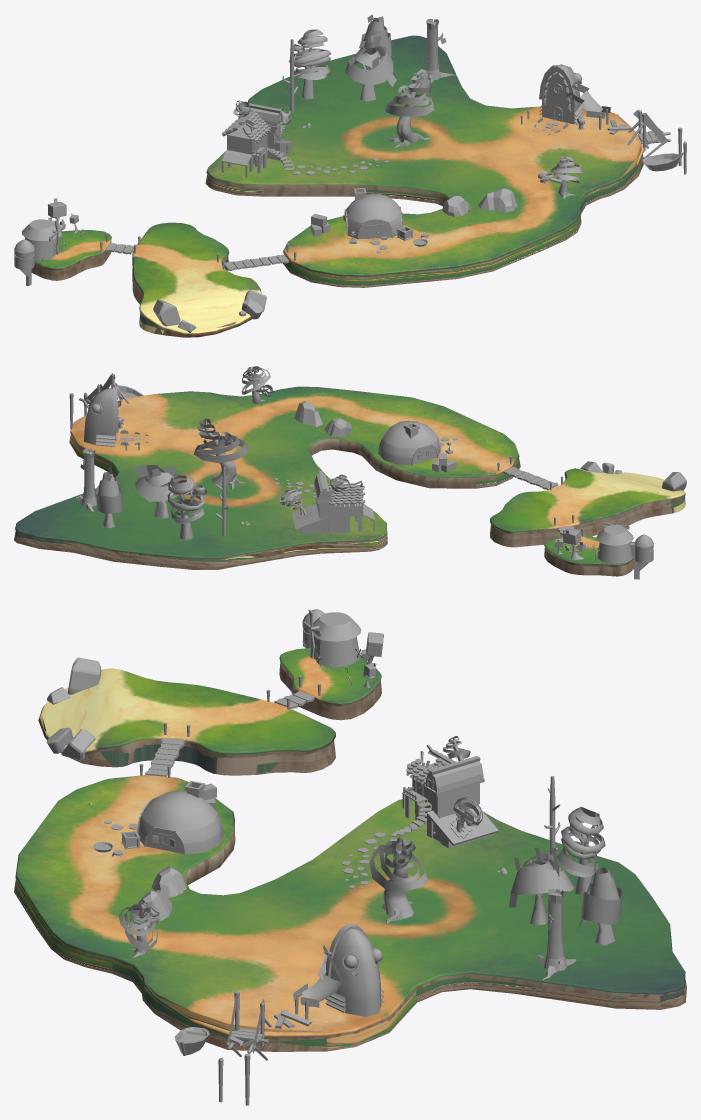
File: FBX_Archipet_1404.fbx
3 views of the same model, one above another, from view 1: azimuth 30°, elevation 25°; view 2: azimuth 150°, elevation 25°; view 3: azimuth 270°, elevation 25° (orthographic). The views are drawn at different scales.
Parts seen in each view (by area): view 1: SM_Isle3 (×2), SM_Isle1, SM_Remumus_House, SM_Isle2 (×2), SM_Mauvis_House, SM_Seamone_House, SM_Tree_Orbe, SM_Tree_Sphere_Plane, SM_Gamin_House, SM_Tree_Plane, SM_Tree_BeeBite_Plane, SM_Cylindre_Pont_Broken (+6 smaller); view 2: SM_Isle3 (×2), SM_Isle1 (×2), SM_Remumus_House, SM_Mauvis_House, SM_Isle2 (×2), SM_Gamin_House, SM_Tree_Orbe, SM_Seamone_House, SM_Tree_Plane, SM_Tree_Sphere_Plane, SM_Tree_Cylindre_Plane, SM_Tree_BeeBite_Plane (+8 smaller); view 3: SM_Isle3 (×2), SM_Isle1 (×2), SM_Remumus_House, SM_Isle2 (×2), SM_Mauvis_House, SM_Seamone_House, SM_Tree_Orbe, SM_Gamin_House, SM_Tree_Plane, SM_Tree_Sphere_Plane, SM_Tree_Cylindre_Plane, SM_Tree_BeeBite_Plane (+5 smaller).
Boxes of the visible parts, x1,y1,x2,y2 form: SM_Isle3 (×2): (205, 35, 644, 287); SM_Isle1: (132, 222, 261, 337); SM_Remumus_House: (221, 102, 294, 177); SM_Isle2 (×2): (31, 230, 111, 280); SM_Mauvis_House: (343, 188, 403, 239); SM_Seamone_House: (539, 64, 583, 124); SM_Tree_Orbe: (385, 69, 433, 147); SM_Tree_Sphere_Plane: (345, 36, 396, 101); SM_Gamin_House: (14, 219, 60, 286); SM_Tree_Plane: (289, 29, 330, 99); SM_Tree_BeeBite_Plane: (538, 156, 583, 198); SM_Cylindre_Pont_Broken: (627, 109, 686, 174); SM_Isle3 (×2): (14, 386, 520, 569); SM_Isle1 (×2): (490, 468, 685, 547); SM_Remumus_House: (292, 471, 374, 534); SM_Mauvis_House: (378, 420, 440, 465); SM_Isle2 (×2): (544, 535, 634, 576); SM_Gamin_House: (596, 524, 653, 579); SM_Tree_Orbe: (193, 418, 248, 489); SM_Seamone_House: (84, 386, 119, 446); SM_Tree_Plane: (167, 473, 207, 540); SM_Tree_Sphere_Plane: (134, 464, 182, 518); SM_Tree_Cylindre_Plane: (95, 467, 122, 528); SM_Tree_BeeBite_Plane: (241, 366, 273, 403); SM_Isle3 (×2): (14, 775, 686, 1051); SM_Isle1 (×2): (38, 668, 335, 775); SM_Remumus_House: (390, 744, 498, 848); SM_Isle2 (×2): (279, 648, 381, 720); SM_Mauvis_House: (137, 780, 223, 855); SM_Seamone_House: (324, 924, 384, 1016); SM_Tree_Orbe: (369, 837, 427, 924); SM_Gamin_House: (302, 609, 361, 666); SM_Tree_Plane: (557, 806, 605, 895); SM_Tree_Sphere_Plane: (509, 847, 574, 925); SM_Tree_Cylindre_Plane: (578, 864, 622, 945); SM_Tree_BeeBite_Plane: (118, 902, 159, 957).
Bounding box in the file's own units: 59.47 × 9.74 × 40.19.
